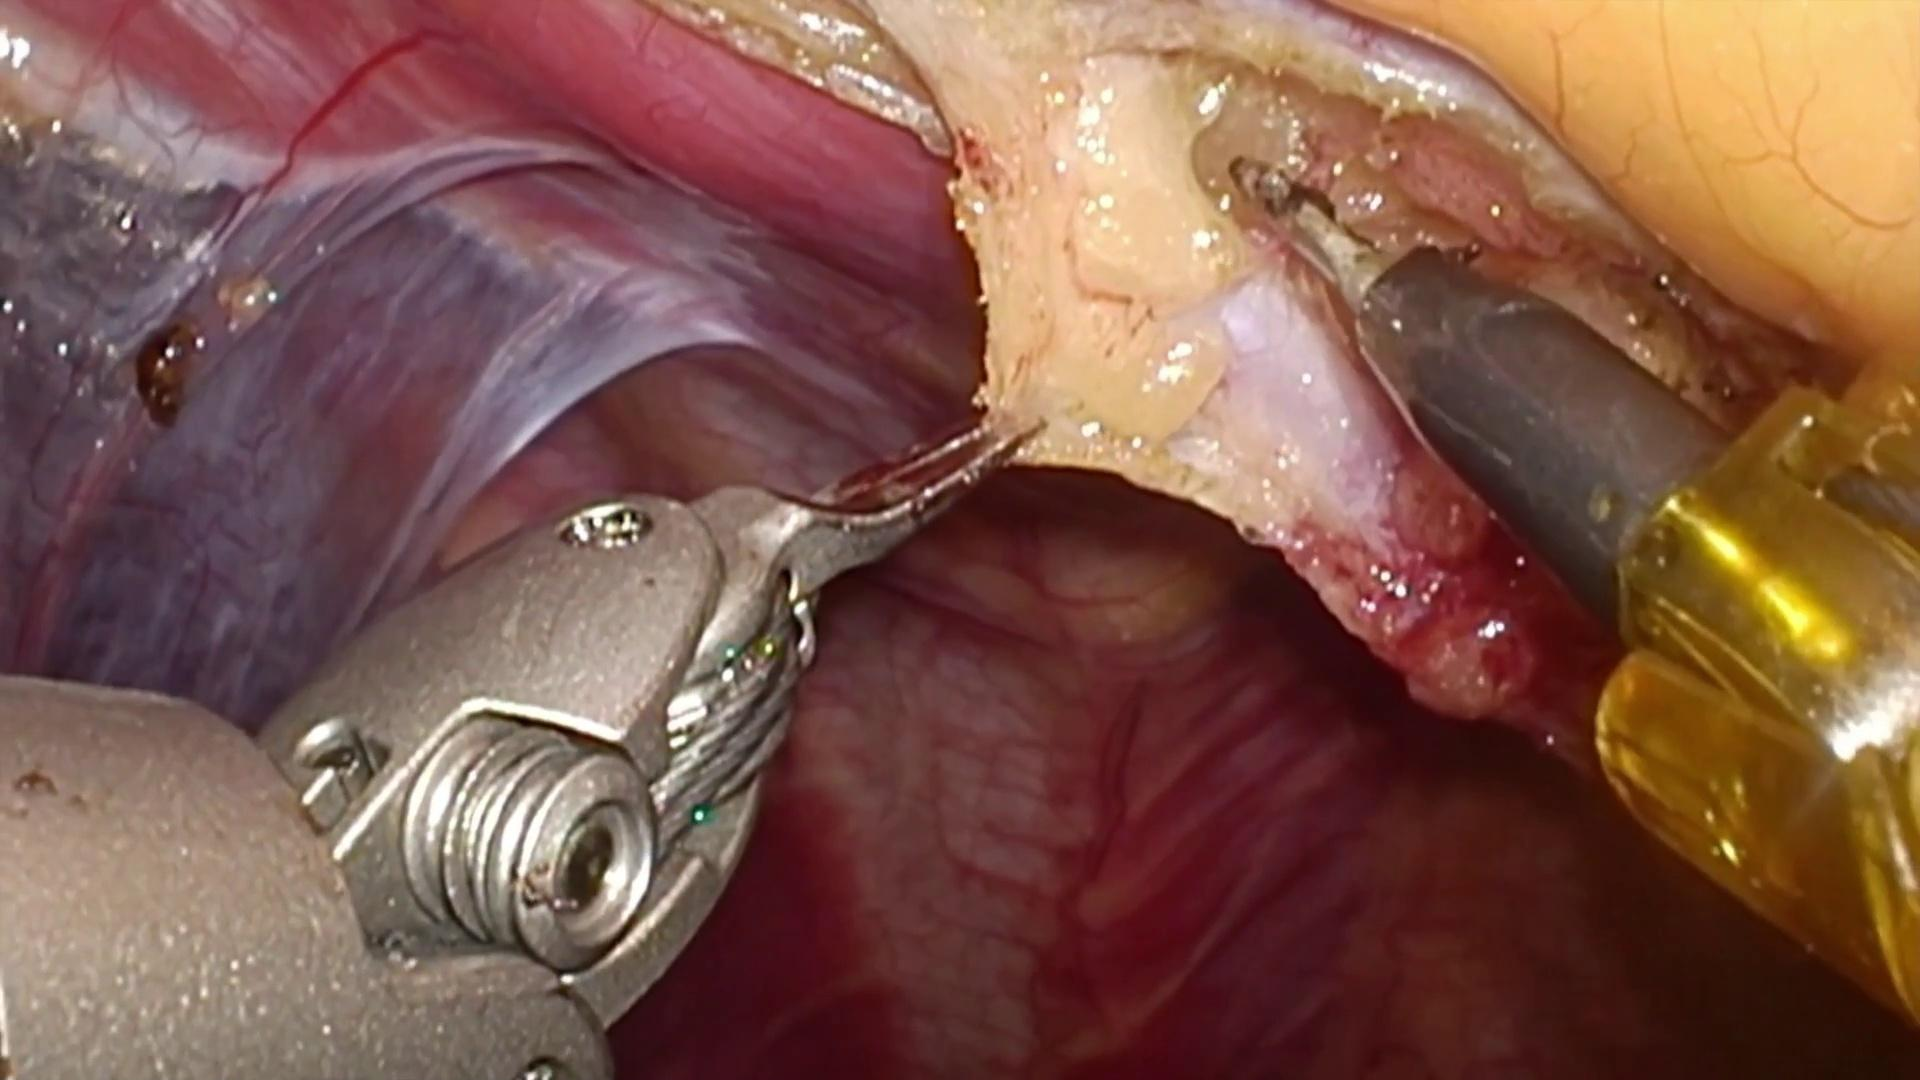Cautery_Spatula: (1230, 144, 1750, 625)
Debakey: (702, 389, 1047, 607)
